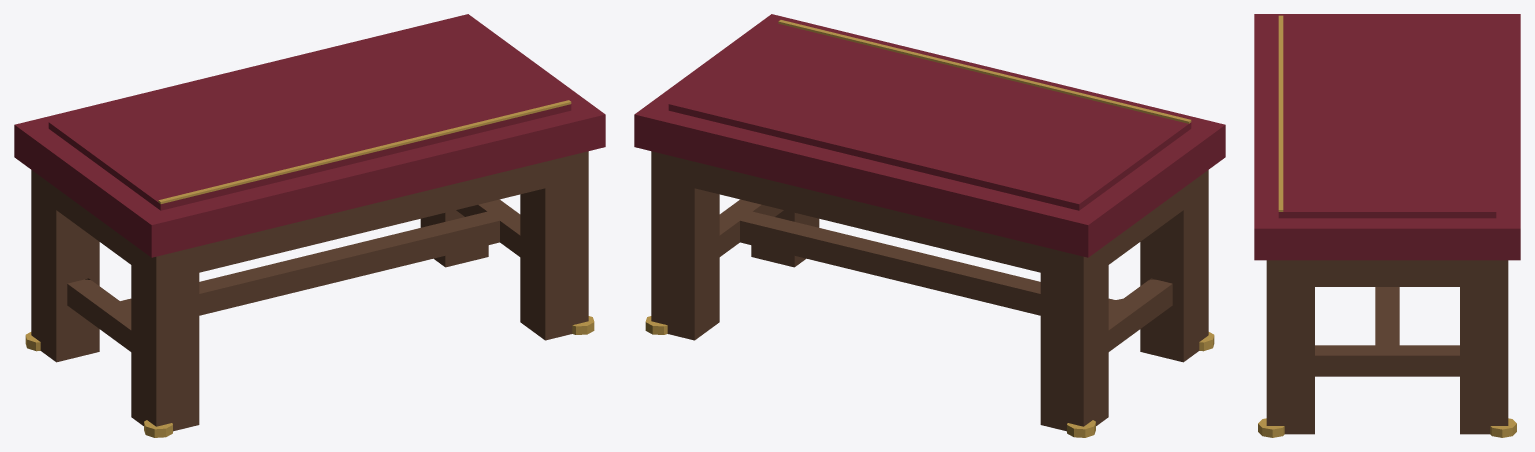
File: benchCushionLow.glb
3 views of the same model, side by side, from view 1: azimuth 30°, elevation 25°; view 2: azimuth 150°, elevation 25°; view 3: azimuth 270°, elevation 25° (orthographic). The views are drawn at different scales.
Parts seen in each view (by area): view 1: benchCushionLow(Clone); view 2: benchCushionLow(Clone); view 3: benchCushionLow(Clone).
Part boxes in pixels (x1,y1,x2,y2): benchCushionLow(Clone): (14, 14, 605, 437); benchCushionLow(Clone): (634, 14, 1225, 437); benchCushionLow(Clone): (1254, 14, 1520, 437).
Bounding box in the file's own units: 0.42 × 0.2 × 0.22.
